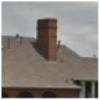chimneys: (35, 15, 59, 65)
